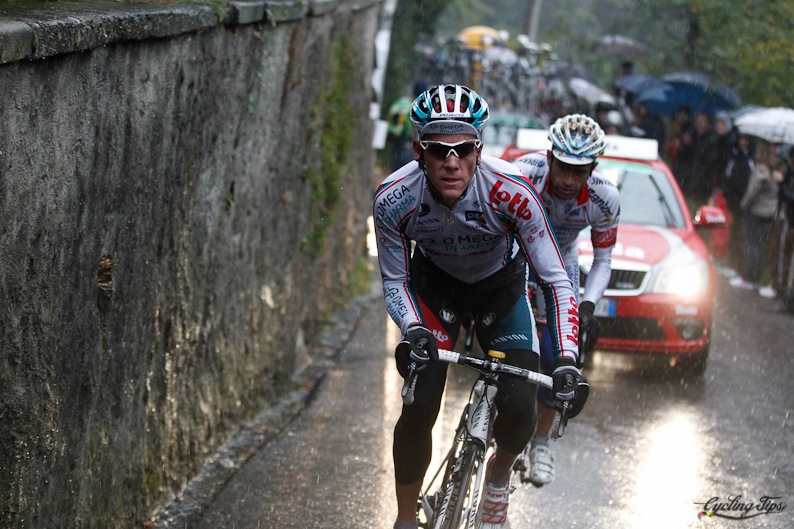with_helmet: (403, 84, 491, 150), (546, 112, 608, 178)
